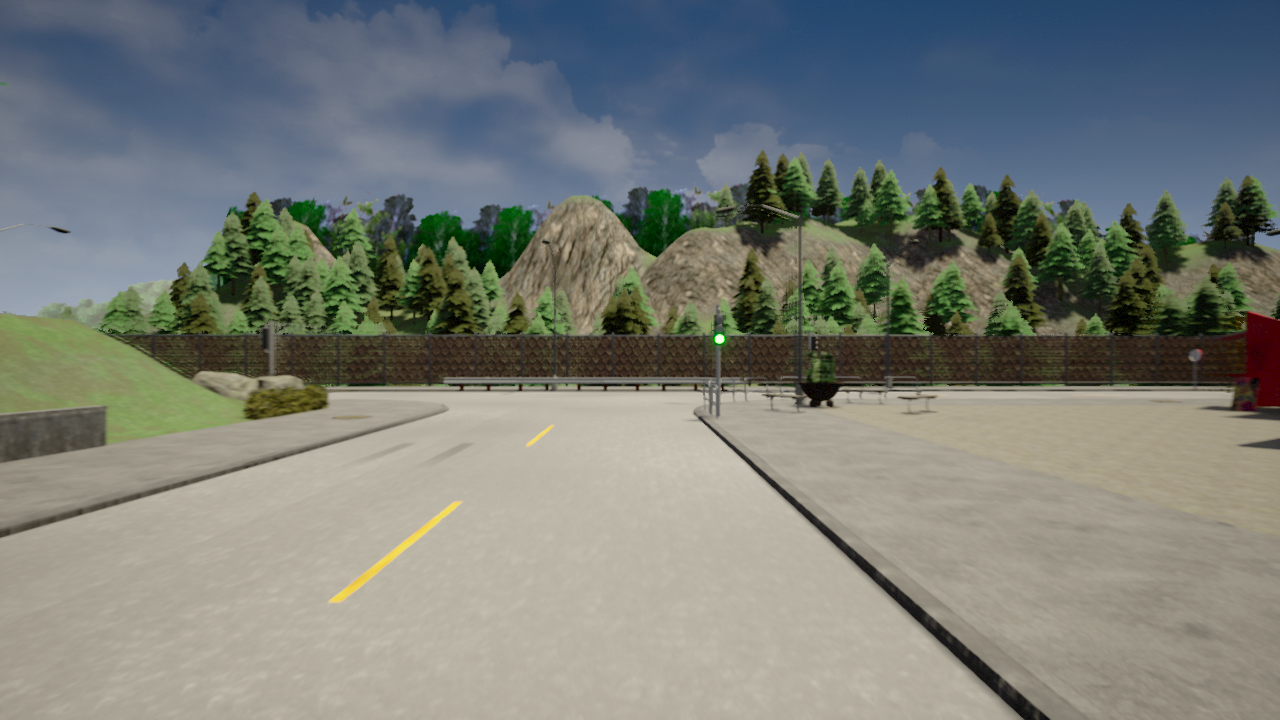green: (713, 314, 725, 345)
